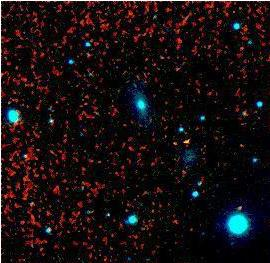star: (225, 191, 255, 221)
